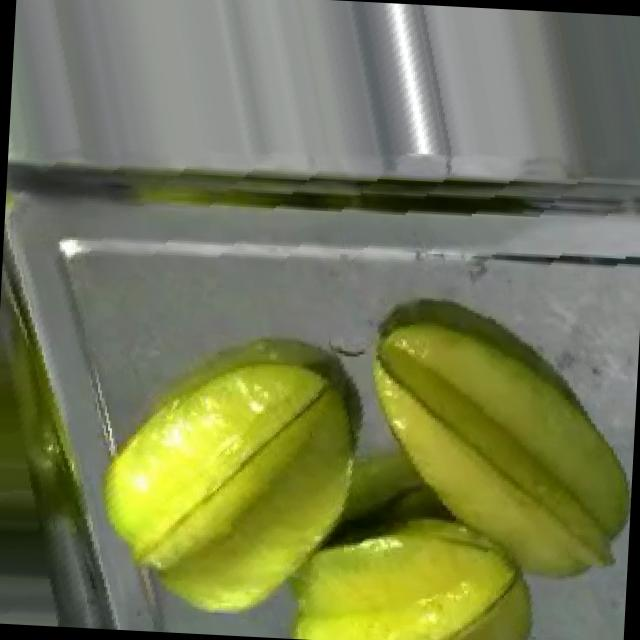fruit: (72, 323, 379, 640), (352, 297, 640, 594), (257, 488, 556, 640)
